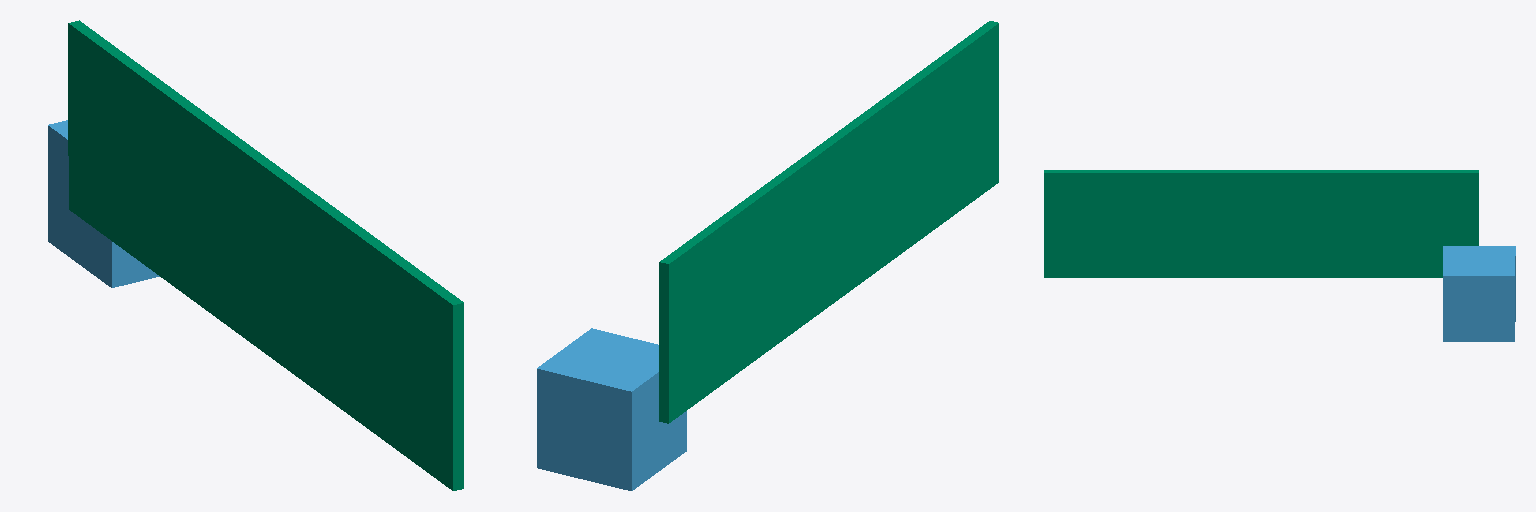
robot.urdf — barrier:
<?xml version="1.0" ?>


<robot name="barrier">

  <link name="world"/>

<!-- Barrier 1 -->
  <joint name="barrier_joint" type="fixed">
    <parent link="world"/>
    <child link="base_link"/>
    <origin xyz="-1.50 0.9 0.025" rpy="0 0 1.57"/>
  </joint>

  <link name="base_link">

    <visual>
      <geometry>
        <box size="0.05 0.05 0.05"/>
      </geometry>
    </visual>

    <collision>
      <origin xyz="0 0 0" rpy="0 0 0"/>
      <geometry>
        <box size="0.05 0.05 0.005"/>
      </geometry>
    </collision>

    <inertial>
      <origin xyz="0 0 0" rpy="0 0 0"/>
      <mass value="0.1"/>
      <inertia  ixx="0.0001" ixy="0" ixz="0"
                iyy="0.0001" iyz="0"
                izz="0.0001" />
    </inertial>

  </link>

  <joint name="base_to_barrier" type="revolute"> 
    <parent link="base_link"/>
    <child link="barrier"/>
    <origin xyz="-0.025 0.025 0.0" rpy="1.57 0 0"/>
    <axis xyz="0 0 1"/>
    <limit effort="1000" lower="-1.57" upper="0" velocity="1.0"/>
    <dynamics damping="0.0" friction="0.1"/>
  </joint>

  <link name="barrier">

    <visual>
    <origin xyz="-0.125 0.04 -0.0025" rpy="0 0 0"/>
      <geometry>
        <box size="0.3 0.08 0.005"/>
      </geometry>
    </visual>

    <collision>
      <origin xyz="-0.125 0.04 -0.0025" rpy="0 0 0"/>
      <geometry>
        <box size="0.3 0.08 0.005"/>
      </geometry>
    </collision>

    <inertial>
      <origin xyz="0 0 0" rpy="0 0 0"/>
      <mass value="0.1"/>
      <inertia  ixx="0.0001" ixy="0" ixz="0"
                iyy="0.0001" iyz="0"
                izz="0.0001" />
    </inertial>

  </link>

  <gazebo reference="base_link">
    <material>Gazebo/Gray</material> 
  </gazebo>

  <gazebo reference="barrier">
    <material>Gazebo/Red</material>
  </gazebo>

<!-- traffic light 1 
  <joint name="base_joint_1_tl" type="fixed">
      <parent link="world"/>
      <child link="base_link_1_tl"/>
      <origin xyz="-1.585 0.75 0.0001" rpy="0 0 1.57"/>
  </joint>

  <link name="base_link_1_tl">
      <visual>
          <geometry>
              <box size="0.1 0.03 0.005"/>
          </geometry>
      </visual>
      <inertial>
          <origin xyz="0 0 0" rpy="0 0 0"/>
          <mass value="0.1"/>
          <inertia ixx="0.0001" ixy="0" ixz="0"
                    iyy="0.0001" iyz="0"
                    izz="0.0001" />
      </inertial>
  </link>
  <gazebo reference="base_link_1_tl">
      <material> Gazebo/Gray </material>
  </gazebo>

  <link name="light_red_1">
      <visual>
          <geometry>
              <cylinder length="0.003" radius="0.009"/>
          </geometry>
      </visual>
      <inertial>
          <origin xyz="0 0 0" rpy="0 0 0"/>
          <mass value="0.01"/>
          <inertia ixx="0.0001" ixy="0" ixz="0"
                  iyy="0.0001" iyz="0"
                  izz="0.0001" />
      </inertial>
      <gravity>0</gravity>
  </link>
  <joint name="base_to_light_red_1" type="prismatic">
      <parent link="base_link_1_tl"/>
      <child link="light_red_1"/>
      <origin xyz="-0.0333 0.0 0.0" rpy="0 0 0"/>
      <axis xyz="0 0 1"/>
      <limit lower="0.0" upper="0.002" effort="1000.0" velocity="1000.0"/>
      <dynamics damping="0.0" friction="0.1"/>
  </joint>

  <link name="light_yellow_1">
      <visual>
          <geometry>
              <cylinder length="0.003" radius="0.009"/>
          </geometry>
      </visual>
      <inertial>
          <origin xyz="0 0 0" rpy="0 0 0"/>
          <mass value="0.01"/>
          <inertia ixx="0.0001" ixy="0" ixz="0"
                  iyy="0.0001" iyz="0"
                  izz="0.0001" />
      </inertial>
      <gravity>0</gravity>
  </link>
  <joint name="base_to_light_yellow_1" type="prismatic">
      <parent link="base_link_1_tl"/>
      <child link="light_yellow_1"/>
      <origin xyz="0.0 0.0 0.0" rpy="0 0 0"/>
      <axis xyz="0 0 1"/>
      <limit lower="0.0" upper="0.002" effort="1000.0" velocity="1000.0"/>
      <dynamics damping="0.0" friction="0.1"/>
  </joint>

  <link name="light_green_1">
      <visual>
          <geometry>
              <cylinder length="0.003" radius="0.009"/>
          </geometry>
      </visual>
      <inertial>
          <origin xyz="0 0 0" rpy="0 0 0"/>
          <mass value="0.01"/>
          <inertia ixx="0.0001" ixy="0" ixz="0"
                  iyy="0.0001" iyz="0"
                  izz="0.0001" />
      </inertial>
      <gravity>0</gravity>
  </link>
  <joint name="base_to_light_green_1" type="prismatic">
      <parent link="base_link_1_tl"/>
      <child link="light_green_1"/>
      <origin xyz="0.0333 0.0 0.0" rpy="0 0 0"/>
      <axis xyz="0 0 1"/>
      <limit lower="0.0" upper="0.002" effort="1000.0" velocity="1000.0"/>
      <dynamics damping="0.0" friction="0.1"/>
  </joint>

  <gazebo reference="light_red_1">
      <material> Gazebo/Red </material>
  </gazebo>
  <gazebo reference="light_yellow_1">
      <material> Gazebo/Yellow </material>
  </gazebo>
  <gazebo reference="light_green_1">
      <material> Gazebo/Green </material>
  </gazebo>

  <gazebo>
      <plugin name="gazebo_ros_control" filename="libgazebo_ros_control.so">
          <robotNamespace>/traffic_lights_1</robotNamespace>
      </plugin>
  </gazebo>

  <transmission name="base_to_light_1_green_trans">
      <type>transmission_interface/SimpleTransmission</type>
      <actuator name="motor1">
          <mechanicalReduction>1</mechanicalReduction>
      </actuator>
      <joint name="base_to_light_green_1">
          <hardwareInterface>hardware_interface/EffortJointInterface</hardwareInterface>
      </joint>
  </transmission>

  <transmission name="base_to_light_1_yellow_trans">
      <type>transmission_interface/SimpleTransmission</type>
      <actuator name="motor1">
          <mechanicalReduction>1</mechanicalReduction>
      </actuator>
      <joint name="base_to_light_yellow_1">
          <hardwareInterface>hardware_interface/EffortJointInterface</hardwareInterface>
      </joint>
  </transmission>

  <transmission name="base_to_light_1_red_trans">
      <type>transmission_interface/SimpleTransmission</type>
      <actuator name="motor1">
          <mechanicalReduction>1</mechanicalReduction>
      </actuator>
      <joint name="base_to_light_red_1">
          <hardwareInterface>hardware_interface/EffortJointInterface</hardwareInterface>
      </joint>
  </transmission>

 traffic light 2
  <joint name="base_joint_2_tl" type="fixed">
      <parent link="world"/>
      <child link="base_link_2_tl"/>
      <origin xyz="-0.9 -1.7 0.0001" rpy="0 0 0"/>
  </joint>

  <link name="base_link_2_tl">
      <visual>
          <geometry>
              <box size="0.1 0.03 0.005"/>
          </geometry>
      </visual>
      <inertial>
          <origin xyz="0 0 0" rpy="0 0 0"/>
          <mass value="0.1"/>
          <inertia ixx="0.0001" ixy="0" ixz="0"
                    iyy="0.0001" iyz="0"
                    izz="0.0001" />
      </inertial>
  </link>
  <gazebo reference="base_link_2_tl">
      <material> Gazebo/Gray </material>
  </gazebo>

  <link name="light_red_2">
      <visual>
          <geometry>
              <cylinder length="0.003" radius="0.009"/>
          </geometry>
      </visual>
      <inertial>
          <origin xyz="0 0 0" rpy="0 0 0"/>
          <mass value="0.01"/>
          <inertia ixx="0.0001" ixy="0" ixz="0"
                  iyy="0.0001" iyz="0"
                  izz="0.0001" />
      </inertial>
      <gravity>0</gravity>
  </link>
  <joint name="base_to_light_red_2" type="prismatic">
      <parent link="base_link_2_tl"/>
      <child link="light_red_2"/>
      <origin xyz="-0.0333 0.0 0.0" rpy="0 0 0"/>
      <axis xyz="0 0 1"/>
      <limit lower="0.0" upper="0.002" effort="1000.0" velocity="1000.0"/>
      <dynamics damping="0.0" friction="0.1"/>
  </joint>

  <link name="light_yellow_2">
      <visual>
          <geometry>
              <cylinder length="0.003" radius="0.009"/>
          </geometry>
      </visual>
      <inertial>
          <origin xyz="0 0 0" rpy="0 0 0"/>
          <mass value="0.01"/>
          <inertia ixx="0.0001" ixy="0" ixz="0"
                  iyy="0.0001" iyz="0"
                  izz="0.0001" />
      </inertial>
      <gravity>0</gravity>
  </link>
  <joint name="base_to_light_yellow_2" type="prismatic">
      <parent link="base_link_2_tl"/>
      <child link="light_yellow_2"/>
      <origin xyz="0.0 0.0 0.0" rpy="0 0 0"/>
      <axis xyz="0 0 1"/>
      <limit lower="0.0" upper="0.002" effort="1000.0" velocity="1000.0"/>
      <dynamics damping="0.0" friction="0.1"/>
  </joint>

  <link name="light_green_2">
      <visual>
          <geometry>
              <cylinder length="0.003" radius="0.009"/>
          </geometry>
      </visual>
      <inertial>
          <origin xyz="0 0 0" rpy="0 0 0"/>
          <mass value="0.01"/>
          <inertia ixx="0.0001" ixy="0" ixz="0"
                  iyy="0.0001" iyz="0"
                  izz="0.0001" />
      </inertial>
      <gravity>0</gravity>
  </link>
  <joint name="base_to_light_green_2" type="prismatic">
      <parent link="base_link_2_tl"/>
      <child link="light_green_2"/>
      <origin xyz="0.0333 0.0 0.0" rpy="0 0 0"/>
      <axis xyz="0 0 1"/>
      <limit lower="0.0" upper="0.002" effort="1000.0" velocity="1000.0"/>
      <dynamics damping="0.0" friction="0.1"/>
  </joint>

  <gazebo reference="light_red_2">
      <material> Gazebo/Red </material>
  </gazebo>
  <gazebo reference="light_yellow_2">
      <material> Gazebo/Yellow </material>
  </gazebo>
  <gazebo reference="light_green_2">
      <material> Gazebo/Green </material>
  </gazebo>

  <gazebo>
      <plugin name="gazebo_ros_control" filename="libgazebo_ros_control.so">
          <robotNamespace>/traffic_lights_2</robotNamespace>
      </plugin>
  </gazebo>

  <transmission name="light_2_trans">
      <type>transmission_interface/SimpleTransmission</type>
      <actuator name="motor1">
          <mechanicalReduction>1</mechanicalReduction>
      </actuator>
      <joint name="base_to_light_green_2">
          <hardwareInterface>hardware_interface/EffortJointInterface</hardwareInterface>
      </joint>
  </transmission>

  <transmission name="base_to_light_2_yellow_trans">
      <type>transmission_interface/SimpleTransmission</type>
      <actuator name="motor1">
          <mechanicalReduction>1</mechanicalReduction>
      </actuator>
      <joint name="base_to_light_yellow_2">
          <hardwareInterface>hardware_interface/EffortJointInterface</hardwareInterface>
      </joint>
  </transmission>

  <transmission name="base_to_light_2_red_trans">
      <type>transmission_interface/SimpleTransmission</type>
      <actuator name="motor1">
          <mechanicalReduction>1</mechanicalReduction>
      </actuator>
      <joint name="base_to_light_red_2">
          <hardwareInterface>hardware_interface/EffortJointInterface</hardwareInterface>
      </joint>
  </transmission>-->

</robot>

--- Facts derived from the render (not from the file) ---
The picture shows the robot from 3 angles, left to right: view 1: azimuth 30°, elevation 25°; view 2: azimuth 150°, elevation 25°; view 3: azimuth 270°, elevation 25°; orthographic projection.
Robot: barrier — 3 links, 2 joints (1 revolute, 1 fixed); root link world; default pose: every joint at zero.
Visible links, largest first — view 1: barrier, base_link; view 2: barrier, base_link; view 3: barrier, base_link.
Link boxes in pixels (x1,y1,x2,y2): barrier: [68, 20, 463, 490]; base_link: [48, 120, 159, 287]; barrier: [659, 21, 998, 423]; base_link: [537, 328, 686, 490]; barrier: [1044, 170, 1478, 277]; base_link: [1443, 246, 1515, 341].
Size in the robot's own frame: 0.0553 by 0.325 by 0.105 metres.
Geometry: primitives only (box / cylinder / sphere), no mesh files.